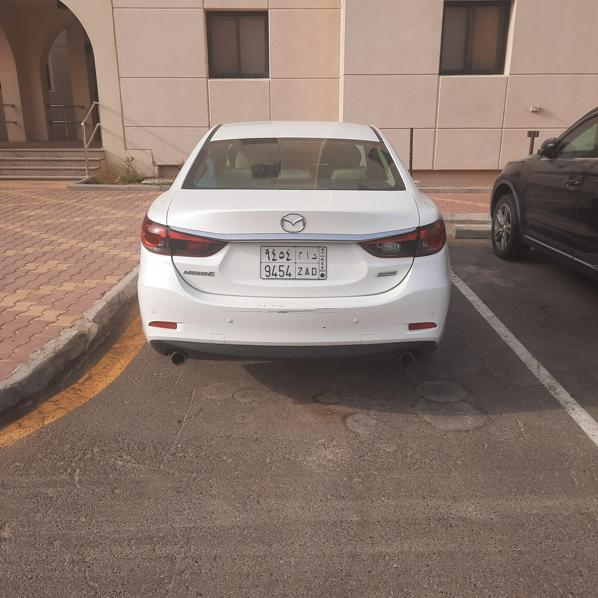numberplate: (260, 245, 327, 279)
